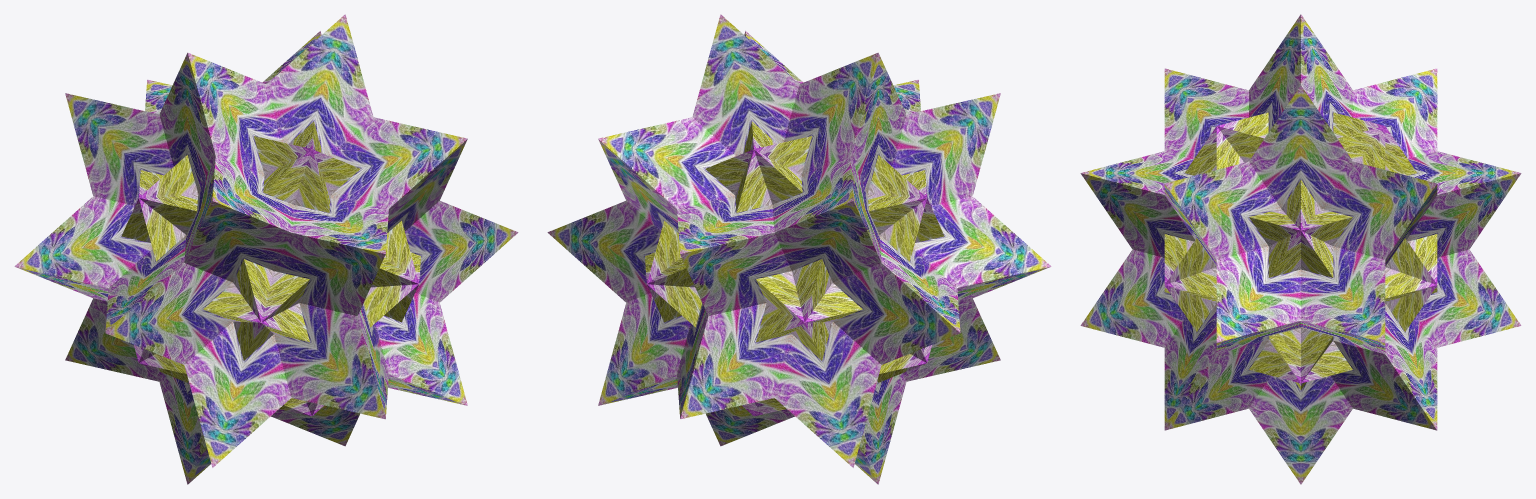
The model's file is GreatRhombicTriacontahedron7.obj.
3 views of the same model, side by side, from view 1: azimuth 30°, elevation 25°; view 2: azimuth 150°, elevation 25°; view 3: azimuth 270°, elevation 25° (orthographic). The views are drawn at different scales.
Size of the model in its own units: 1.12 by 1.12 by 1.12.
Materials: 1 (1 with a texture image).
